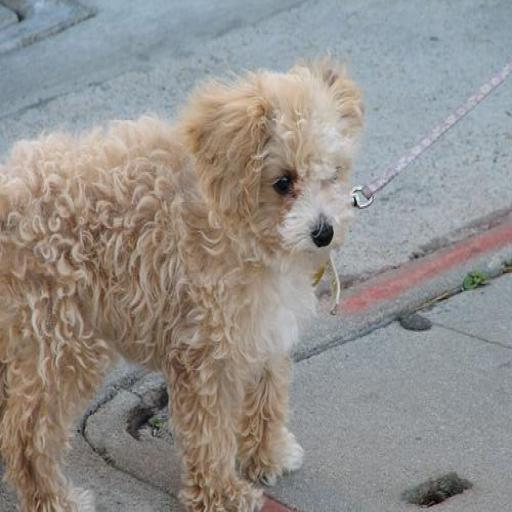dog_face: (200, 63, 355, 258)
